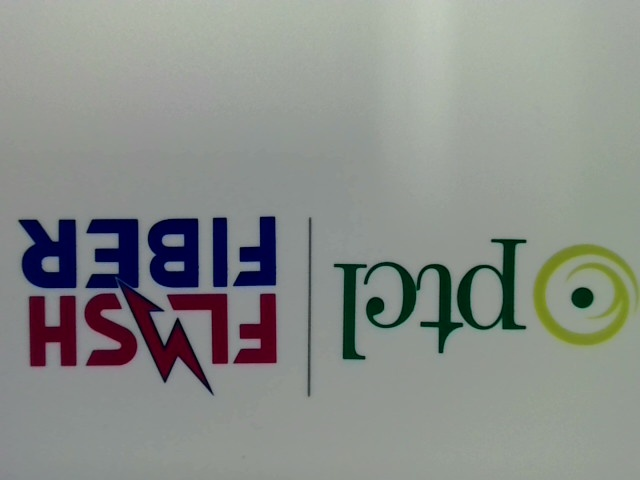BF_PTCL: (321, 232, 637, 368)
